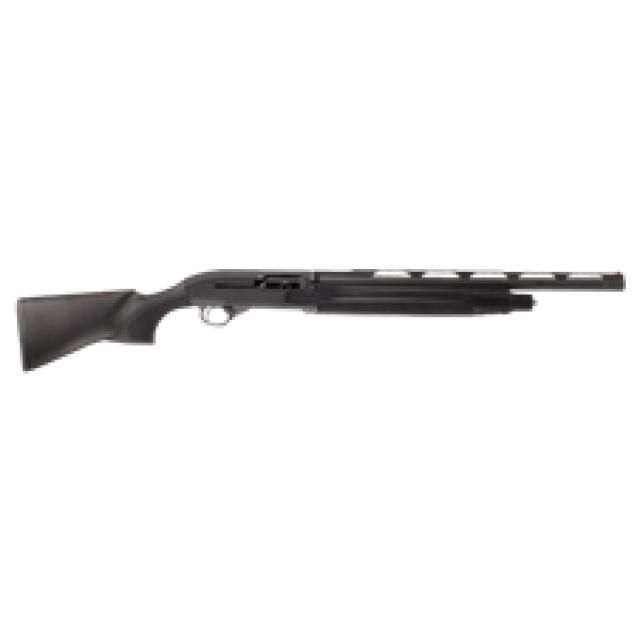rifle: (9, 253, 633, 382)
